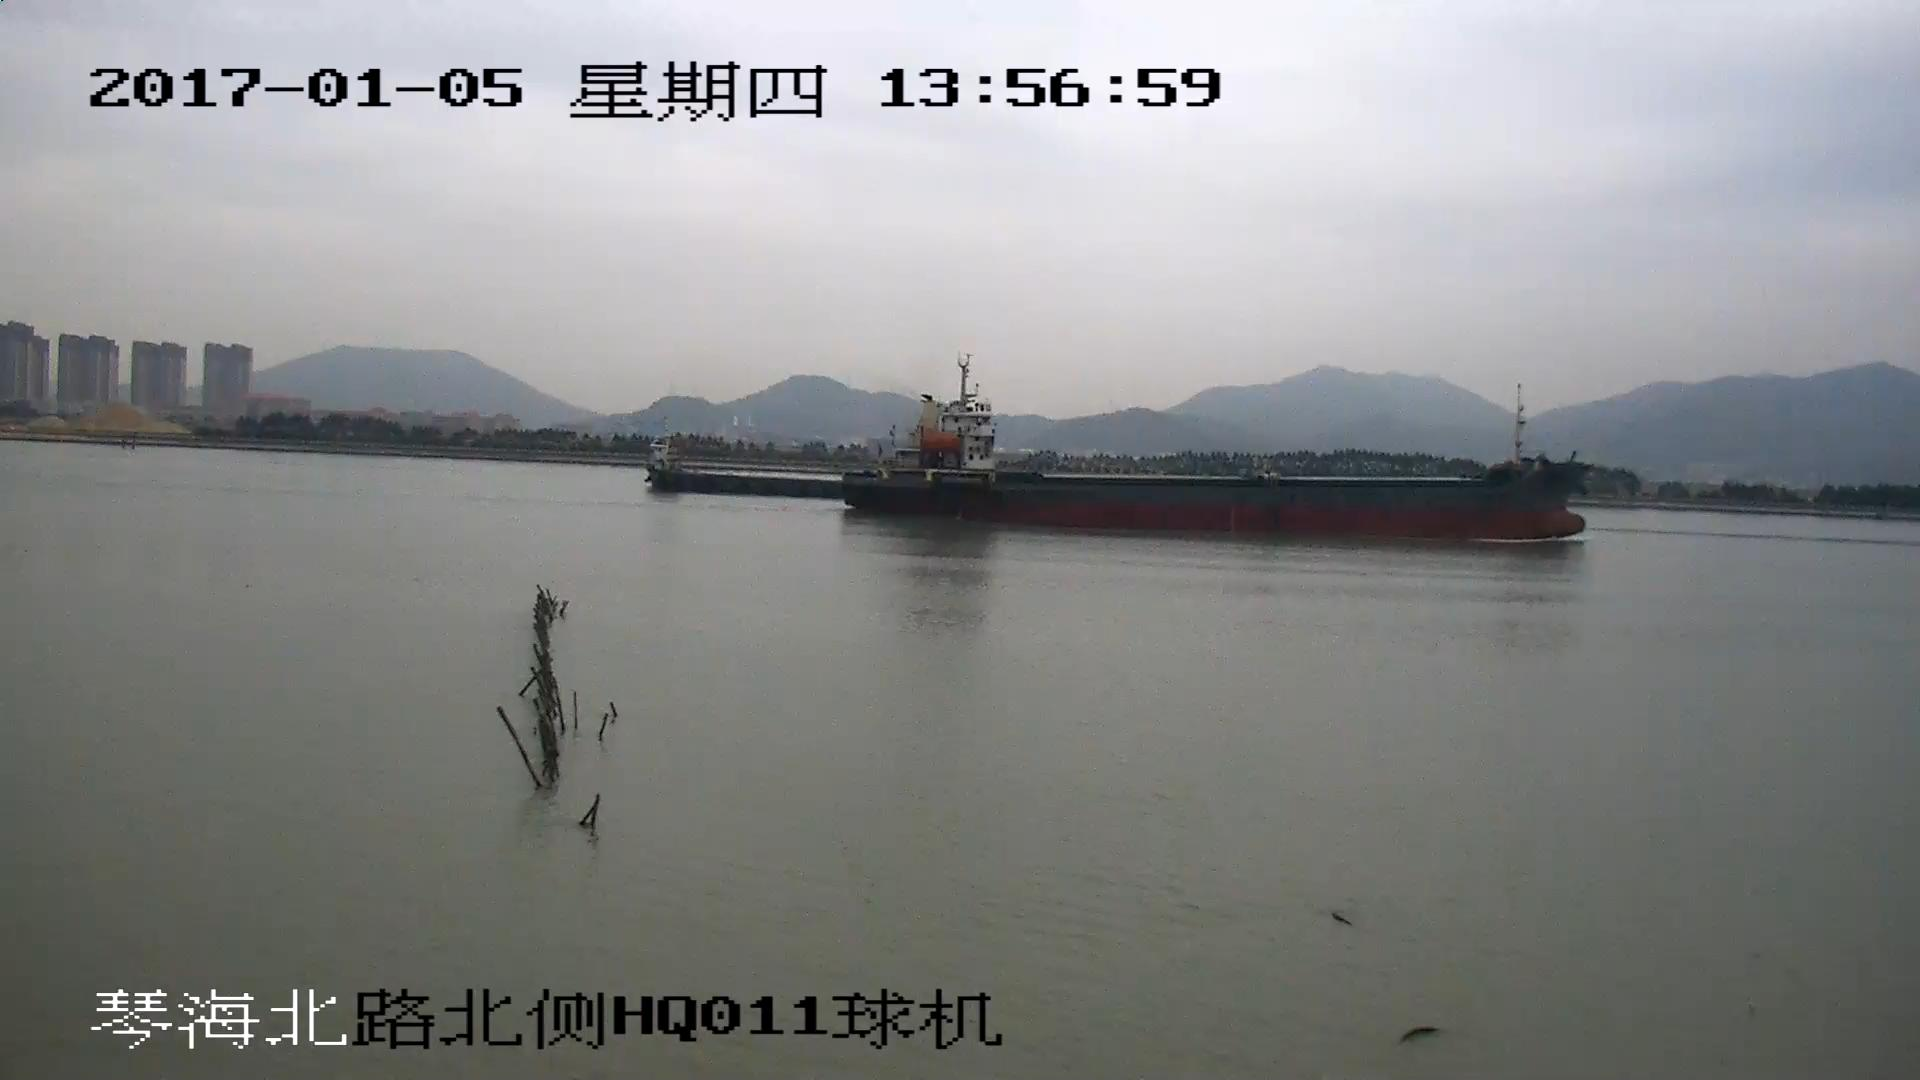general cargo ship: (835, 365, 1586, 535), (649, 441, 829, 498)
